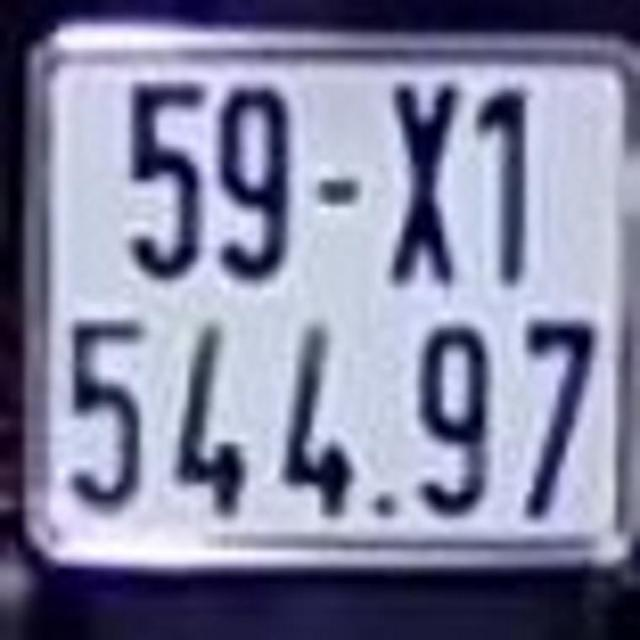1: (473, 83, 530, 287)
4: (278, 314, 357, 524), (172, 311, 250, 515)
5: (126, 73, 207, 282), (67, 312, 148, 506)
7: (517, 312, 602, 521)
9: (412, 313, 488, 521), (213, 77, 287, 286)
X: (392, 72, 459, 291)
